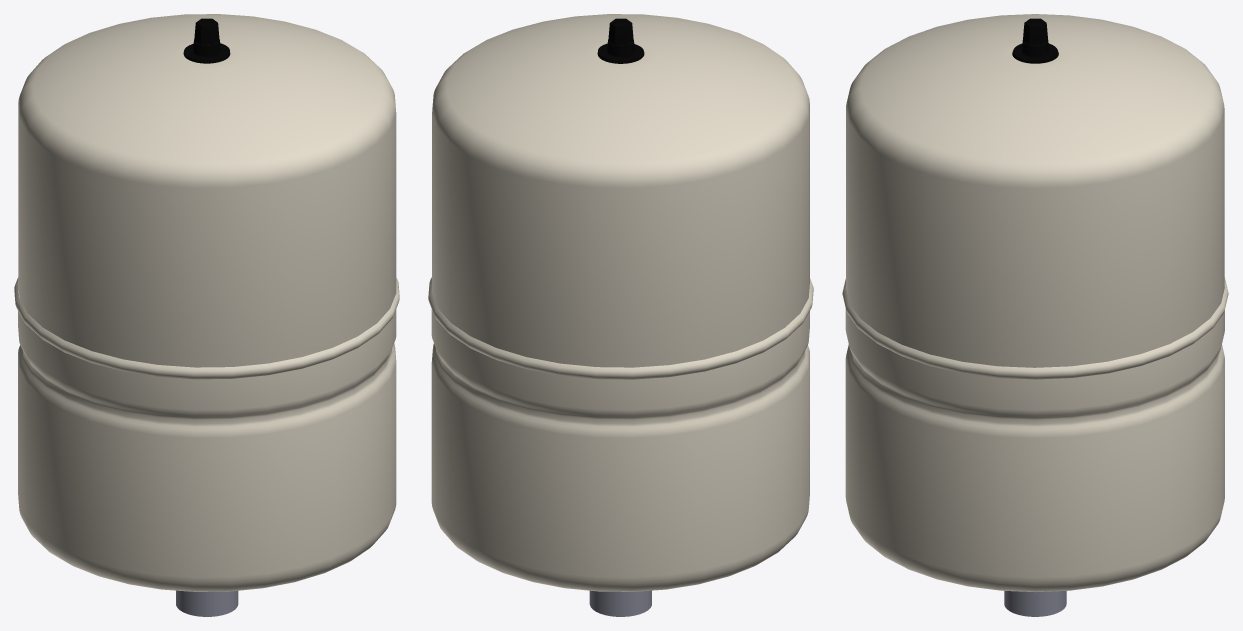
The model's file is 8lt-sabit-tank.fbx.
3 views of the same model, side by side, from view 1: azimuth 30°, elevation 25°; view 2: azimuth 150°, elevation 25°; view 3: azimuth 270°, elevation 25° (orthographic).
Visible parts, largest first — view 1: 8lt-sabit-tank.004, 8lt-sabit-tank.001, 8lt-sabit-tank.005, 8lt-sabit-tank.007, 8lt-sabit-tank.014; view 2: 8lt-sabit-tank.004, 8lt-sabit-tank.001, 8lt-sabit-tank.005, 8lt-sabit-tank.007, 8lt-sabit-tank.014; view 3: 8lt-sabit-tank.004, 8lt-sabit-tank.001, 8lt-sabit-tank.005, 8lt-sabit-tank.007, 8lt-sabit-tank.014.
Part boxes in pixels (box(x1,y1,x2,y2)): 8lt-sabit-tank.004: box(18, 14, 396, 367); 8lt-sabit-tank.001: box(18, 290, 396, 591); 8lt-sabit-tank.005: box(14, 277, 399, 379); 8lt-sabit-tank.007: box(176, 590, 238, 616); 8lt-sabit-tank.014: box(183, 18, 230, 63); 8lt-sabit-tank.004: box(432, 14, 809, 367); 8lt-sabit-tank.001: box(431, 309, 809, 591); 8lt-sabit-tank.005: box(428, 277, 813, 379); 8lt-sabit-tank.007: box(589, 590, 651, 616); 8lt-sabit-tank.014: box(597, 18, 644, 63); 8lt-sabit-tank.004: box(846, 14, 1224, 367); 8lt-sabit-tank.001: box(845, 309, 1224, 592); 8lt-sabit-tank.005: box(842, 277, 1228, 379); 8lt-sabit-tank.007: box(1004, 591, 1066, 616); 8lt-sabit-tank.014: box(1012, 18, 1058, 63).
Size of the model in its own units: 1287 by 2136 by 1287.
